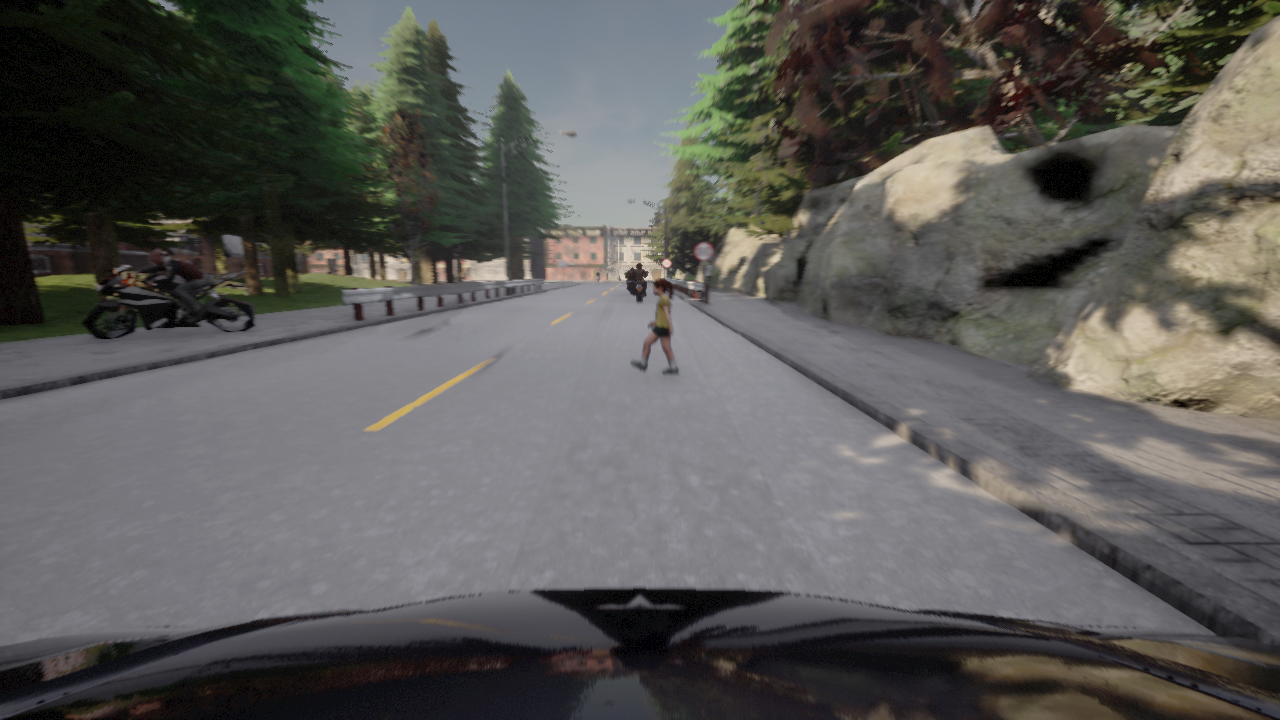cyclist: (0, 588, 1279, 719), (81, 265, 255, 339), (631, 271, 645, 301), (627, 274, 635, 293)
pedestrian: (631, 279, 677, 373), (704, 261, 713, 290)
